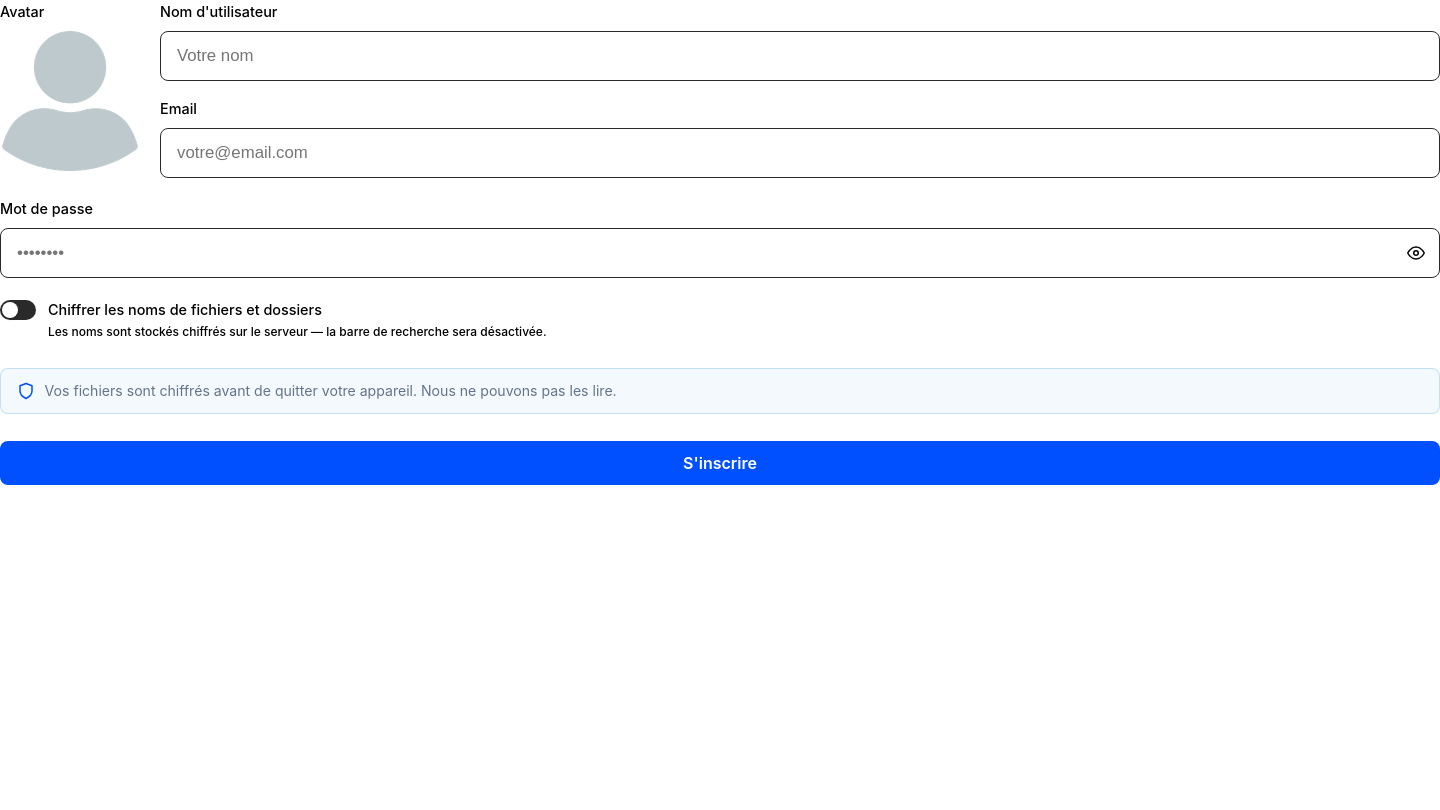
Test: registerComponent — recovery code display › Continue button is disabled until checkbox is checked
Type "TestUser" into the field with placeholder "Votre nom" at (800, 56), box top-left (160, 31), bottom-right (1439, 81)
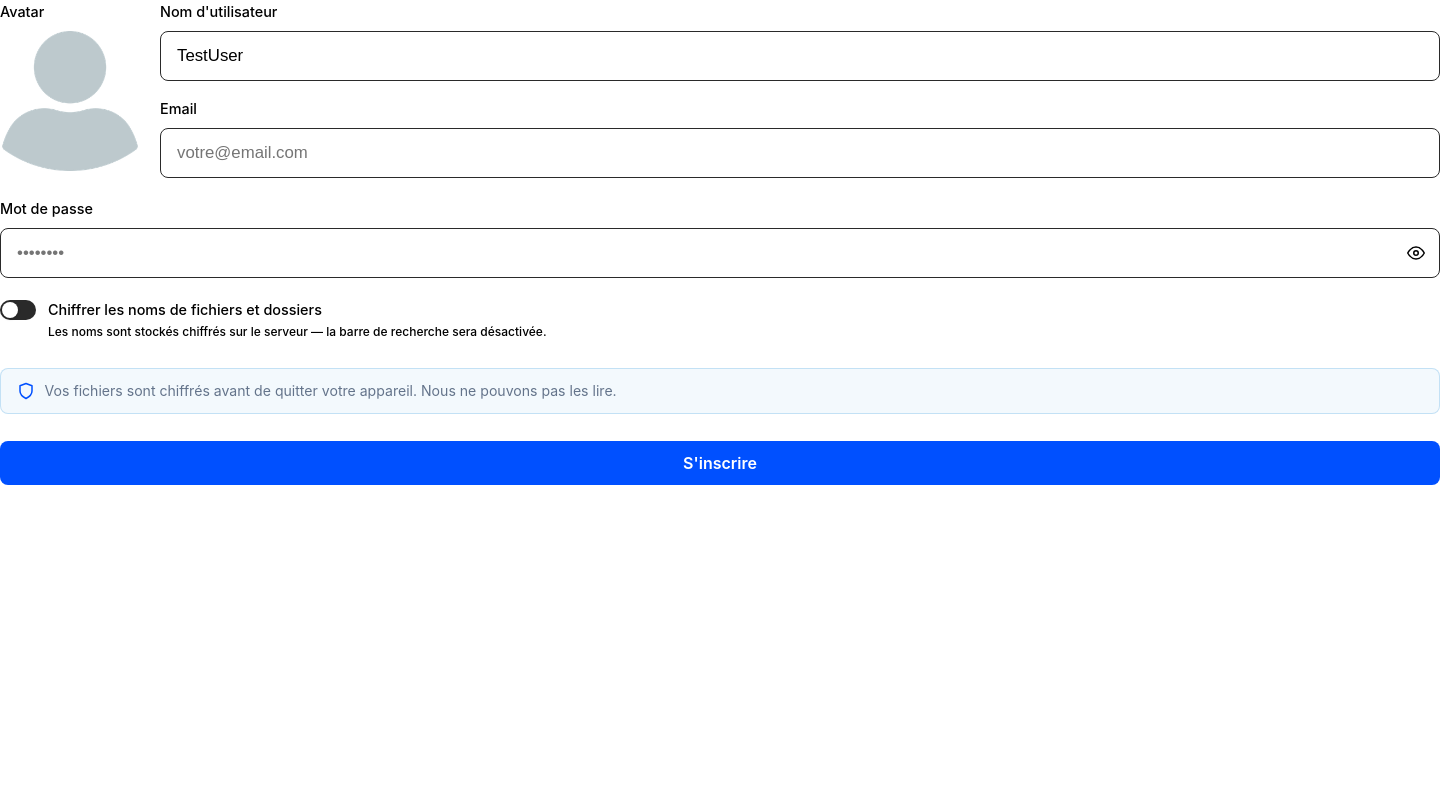
Type "user@example.com" into the field with placeholder "votre@email.com" at (800, 153), box top-left (160, 128), bottom-right (1439, 178)
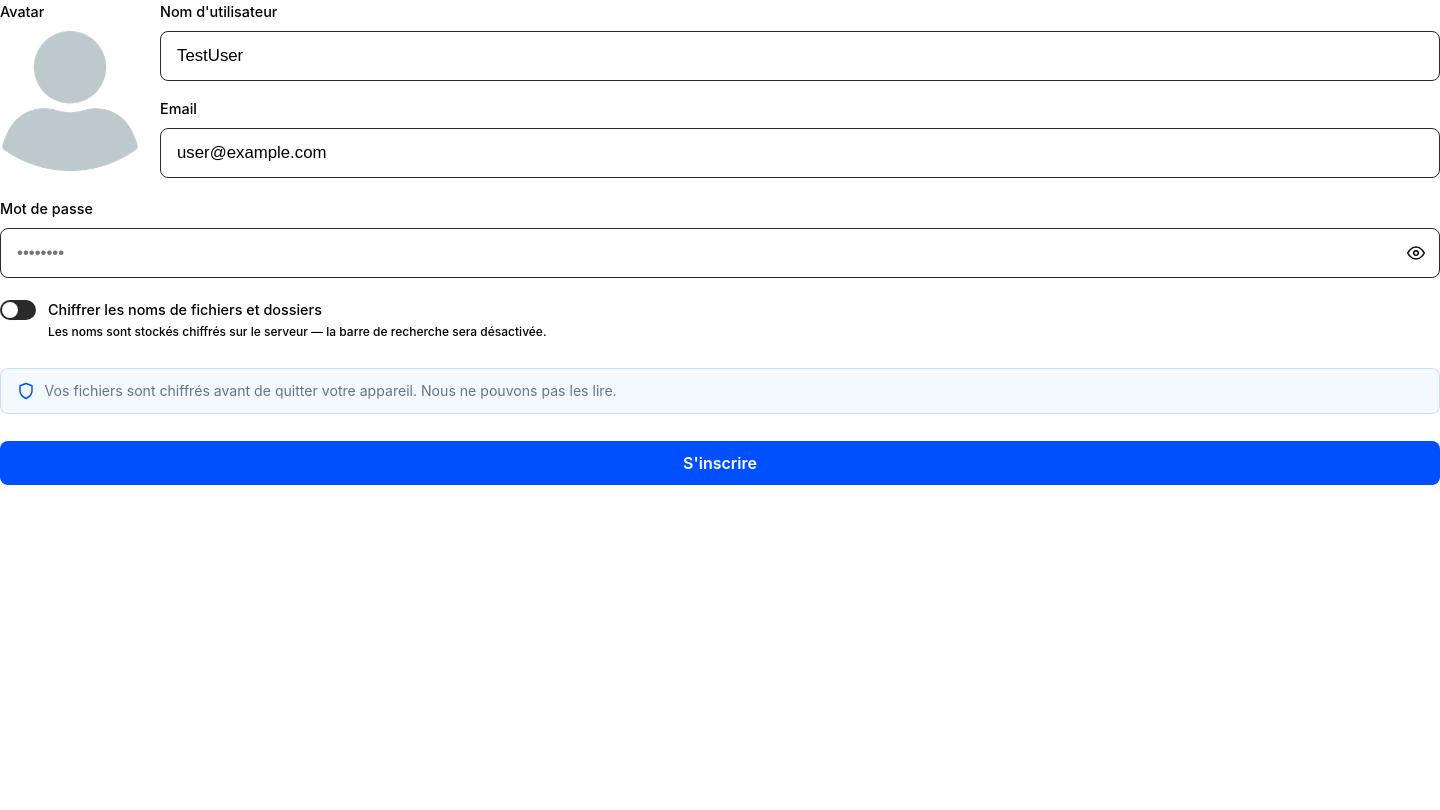
Type "Abcdefghijklmnopqrst1!" into the password field with placeholder "••••••••" at (720, 253), box top-left (0, 228), bottom-right (1439, 278)
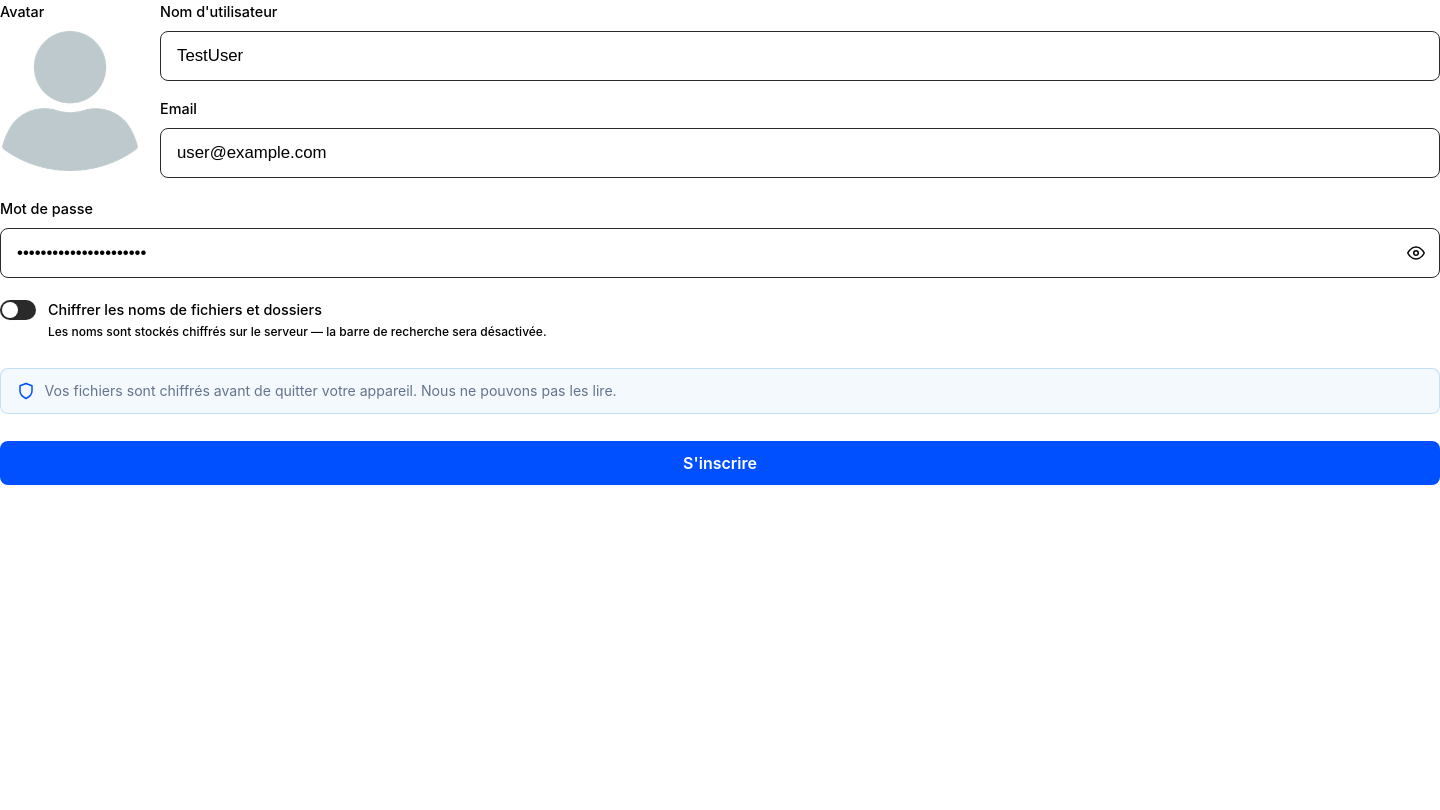
Submit the form, box top-left (0, 0), bottom-right (1439, 485)
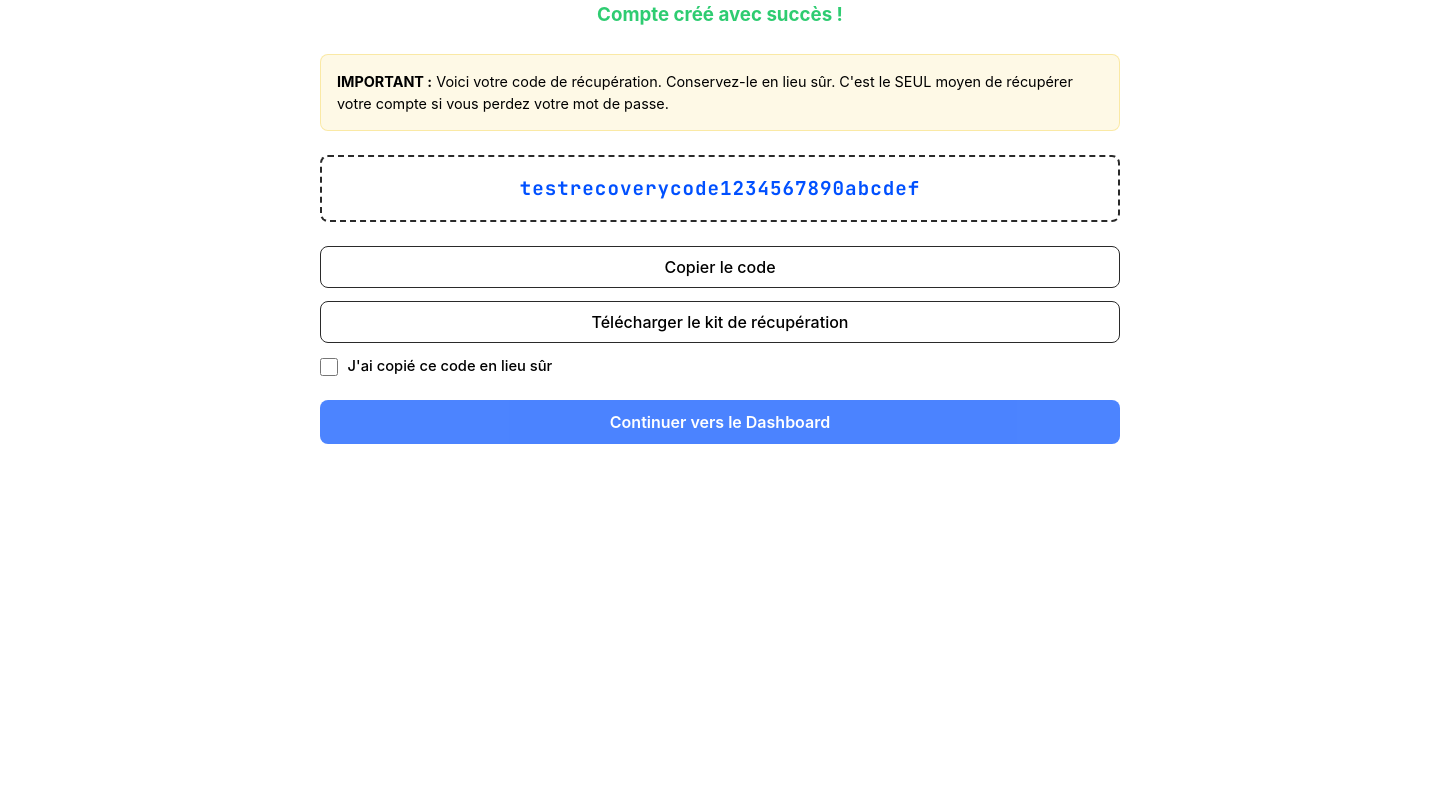
Expected: the button with class "btn-submit" is disabled, top-left (320, 400), bottom-right (1120, 444)
Click the checkbox with id "copied-checkbox" at (329, 367), box top-left (320, 358), bottom-right (338, 376)
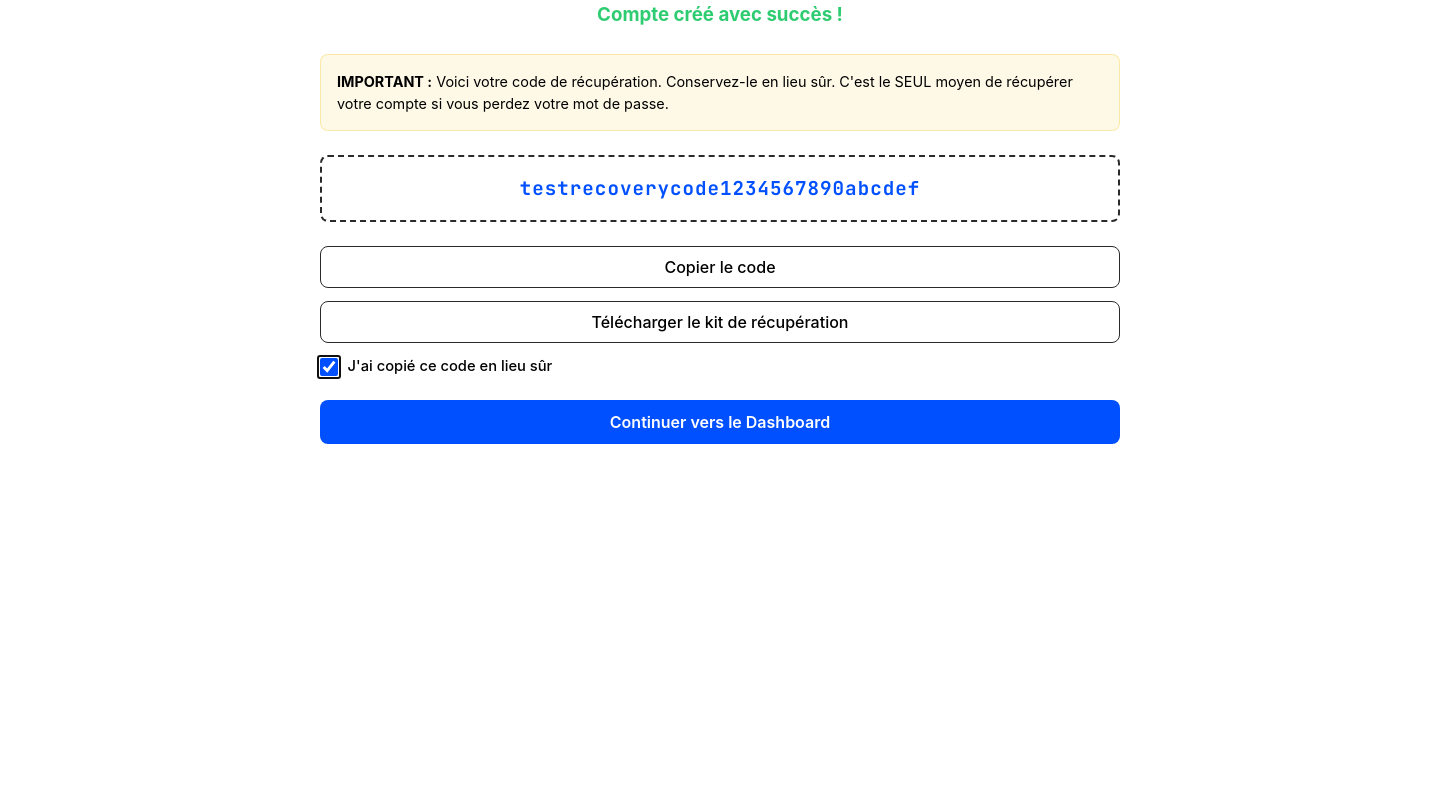
Expected: the button with class "btn-submit" is enabled, top-left (320, 400), bottom-right (1120, 444)
